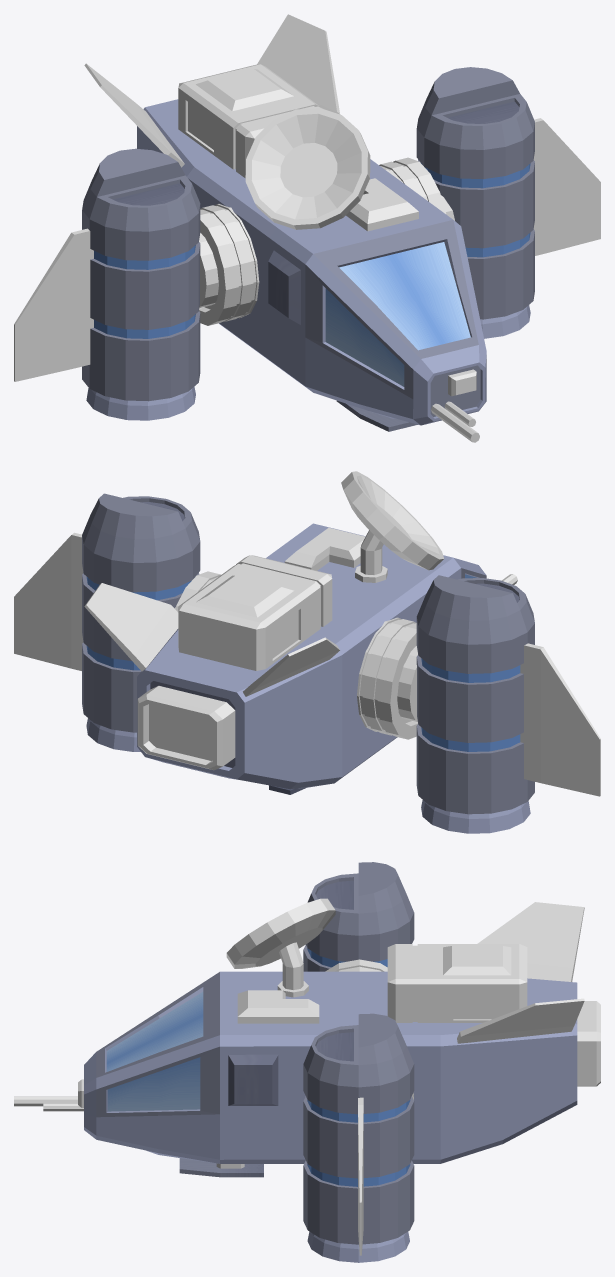
The model's file is Ship_Model.glb.
The picture shows the model from 3 angles, top to bottom: view 1: azimuth 30°, elevation 25°; view 2: azimuth 150°, elevation 25°; view 3: azimuth 270°, elevation 25°; orthographic projection. The views are drawn at different scales.
Parts seen in each view (by area): view 1: Phase1, Phase2, Phase3, Phase4.001, Phase5, Phase3.001, Phase4, Phase1.002; view 2: Phase2, Phase1, Phase3, Phase5, Phase4.001, Phase2.001, Phase3.001; view 3: Phase1, Phase2, Phase5, Phase3.001, Phase4.001, Phase2.001, Phase1.002, Phase4, Phase3.
Boxes of the visible parts, bbox=[...] form: Phase1: bbox=[137, 99, 486, 425]; Phase2: bbox=[82, 67, 534, 420]; Phase3: bbox=[14, 118, 600, 381]; Phase4.001: bbox=[245, 108, 418, 231]; Phase5: bbox=[178, 64, 322, 178]; Phase3.001: bbox=[84, 14, 340, 167]; Phase4: bbox=[431, 369, 479, 442]; Phase1.002: bbox=[336, 400, 417, 431]; Phase2: bbox=[82, 493, 534, 833]; Phase1: bbox=[137, 523, 486, 789]; Phase3: bbox=[14, 532, 600, 796]; Phase5: bbox=[178, 555, 332, 670]; Phase4.001: bbox=[284, 471, 444, 582]; Phase2.001: bbox=[137, 686, 235, 770]; Phase3.001: bbox=[84, 583, 339, 696]; Phase1: bbox=[84, 959, 577, 1163]; Phase2: bbox=[303, 862, 414, 1262]; Phase5: bbox=[387, 944, 527, 1022]; Phase3.001: bbox=[457, 902, 584, 1043]; Phase4.001: bbox=[226, 898, 335, 1023]; Phase2.001: bbox=[577, 1001, 600, 1086]; Phase1.002: bbox=[179, 1158, 263, 1177]; Phase4: bbox=[14, 1079, 83, 1111]; Phase3: bbox=[358, 1097, 363, 1255].
Size of the model in its own units: 9.39 by 4.22 by 8.77.
1 material, 1 textured.
